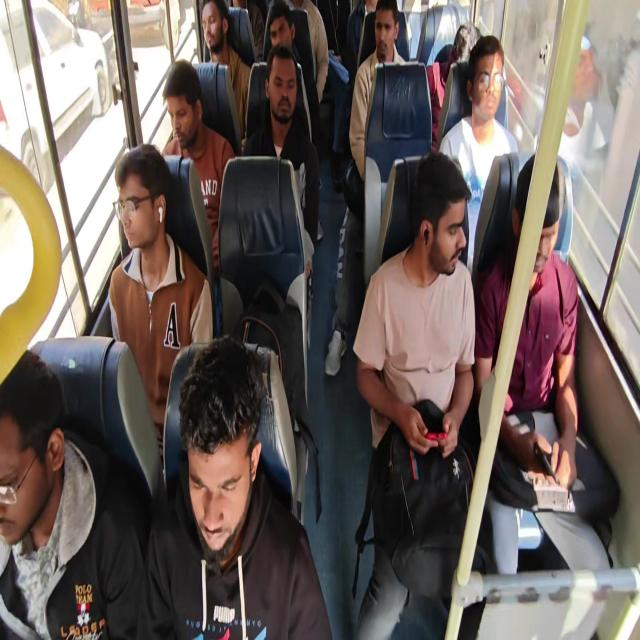person: (165, 361, 288, 640), (0, 363, 80, 605), (92, 148, 181, 334), (505, 168, 594, 301), (405, 161, 473, 313), (148, 57, 199, 166), (363, 5, 413, 107), (466, 50, 506, 132), (268, 56, 302, 150), (322, 0, 358, 68), (453, 24, 481, 84), (199, 0, 228, 41), (361, 0, 392, 36), (286, 0, 313, 30), (225, 0, 268, 16), (272, 12, 288, 50)
